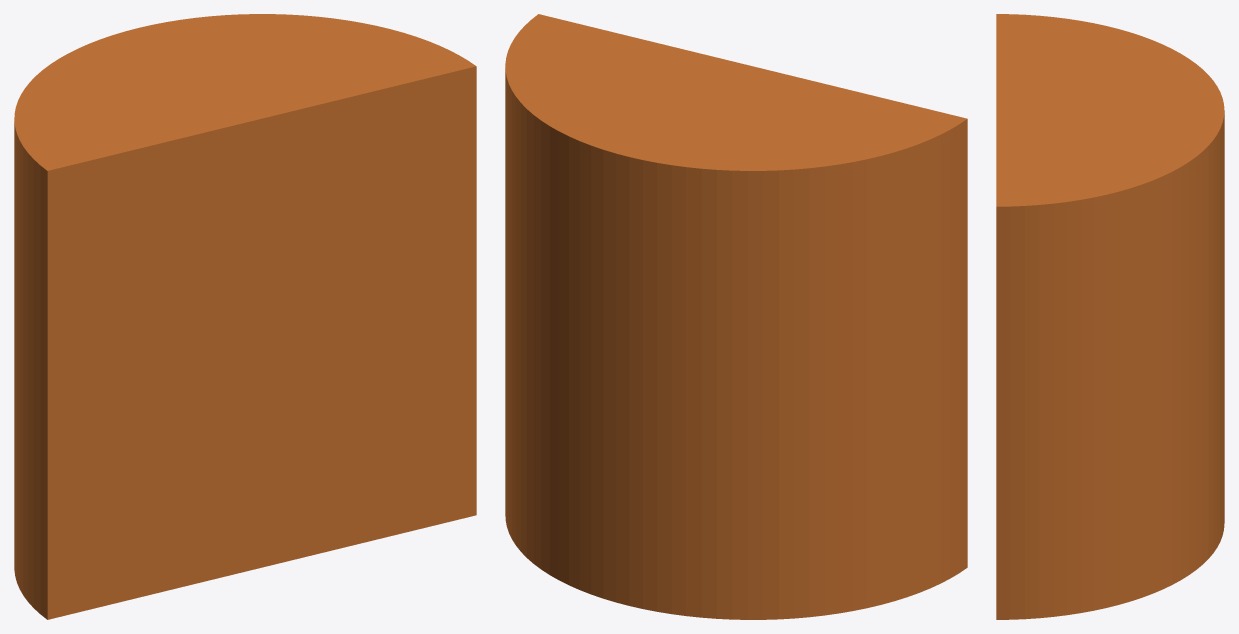
File: SmallHemiO.fbx
3 views of the same model, side by side, from view 1: azimuth 30°, elevation 25°; view 2: azimuth 150°, elevation 25°; view 3: azimuth 270°, elevation 25° (orthographic). The views are drawn at different scales.
Parts seen in each view (by area): view 1: SmallHemiO; view 2: SmallHemiO; view 3: SmallHemiO.
Boxes of the visible parts, box(x1,y1,x2,y2) form: SmallHemiO: box(14, 14, 476, 619); SmallHemiO: box(505, 14, 967, 619); SmallHemiO: box(996, 14, 1224, 619).
Bounding box in the file's own units: 600 × 600 × 300.
